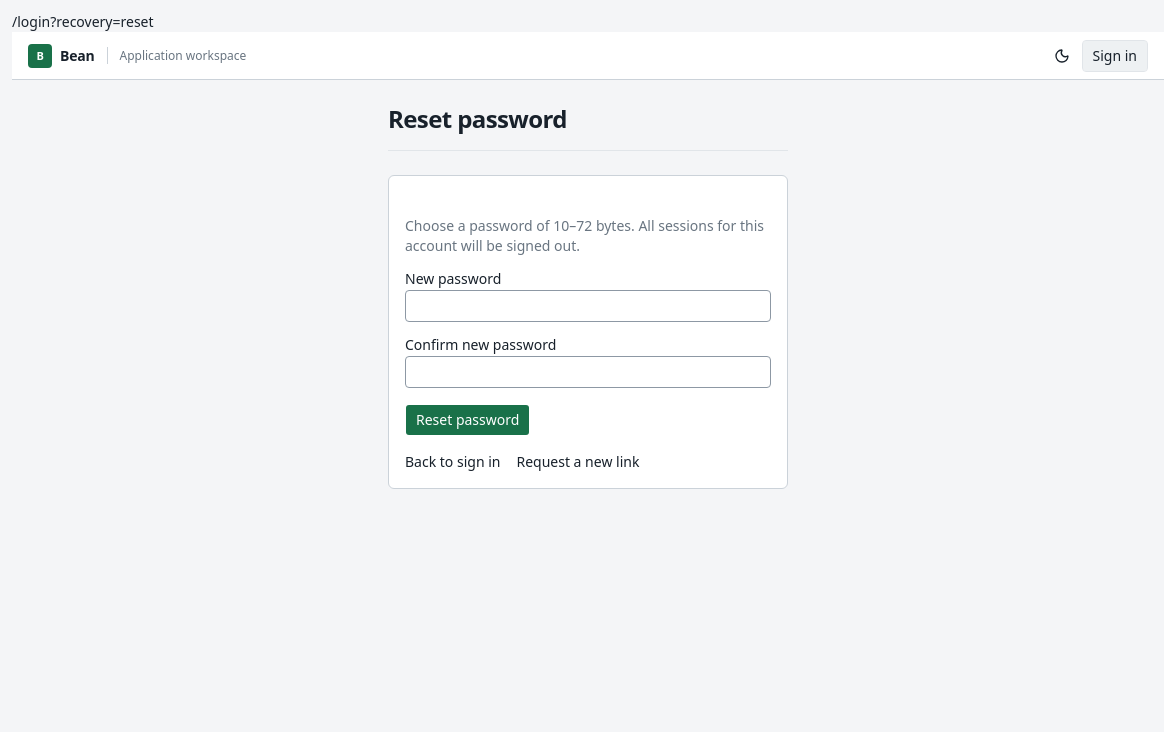
Test: keeps tokens out of the URL/storage and consumes them only on explicit POST
Check: the button "Reset password" is shown, box [405,404,530,436]
Check: the text with test id "location" reads "/login?recovery=reset", box [12,12,154,31]
Type "new-password" into the password field labelled "New password" at (588, 306), box [405,290,771,322]
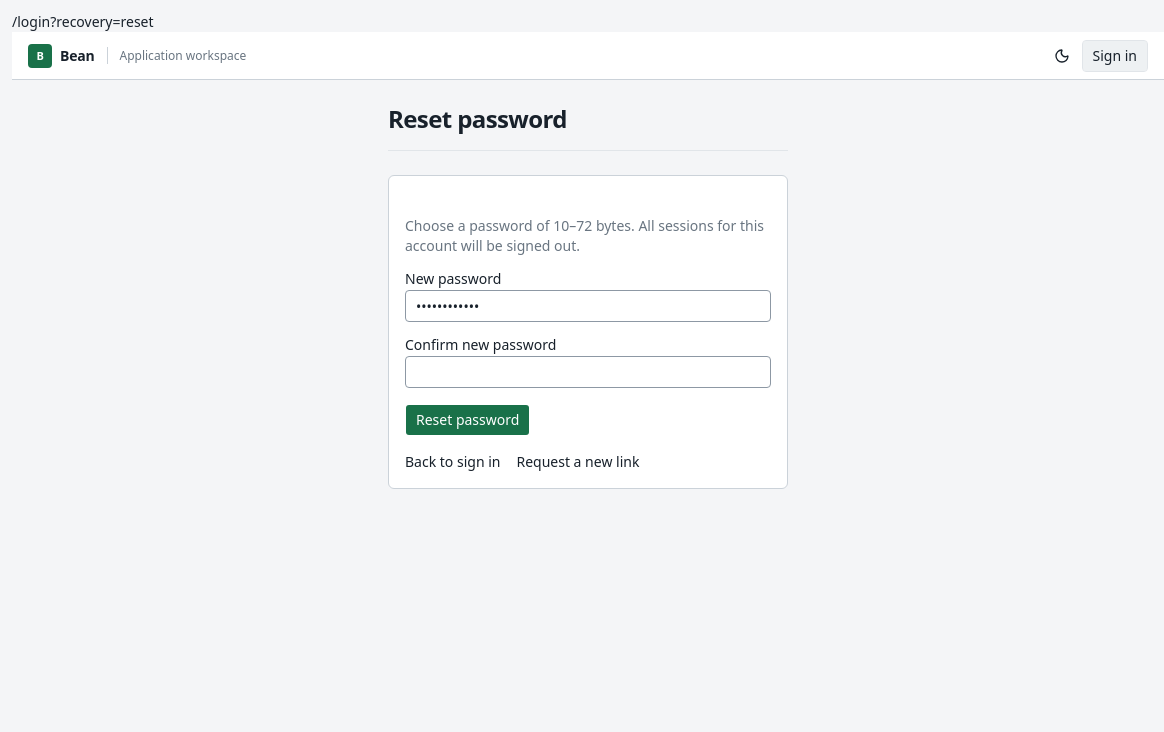
Type "new-password" into the password field labelled "Confirm new password" at (588, 372), box [405,356,771,388]
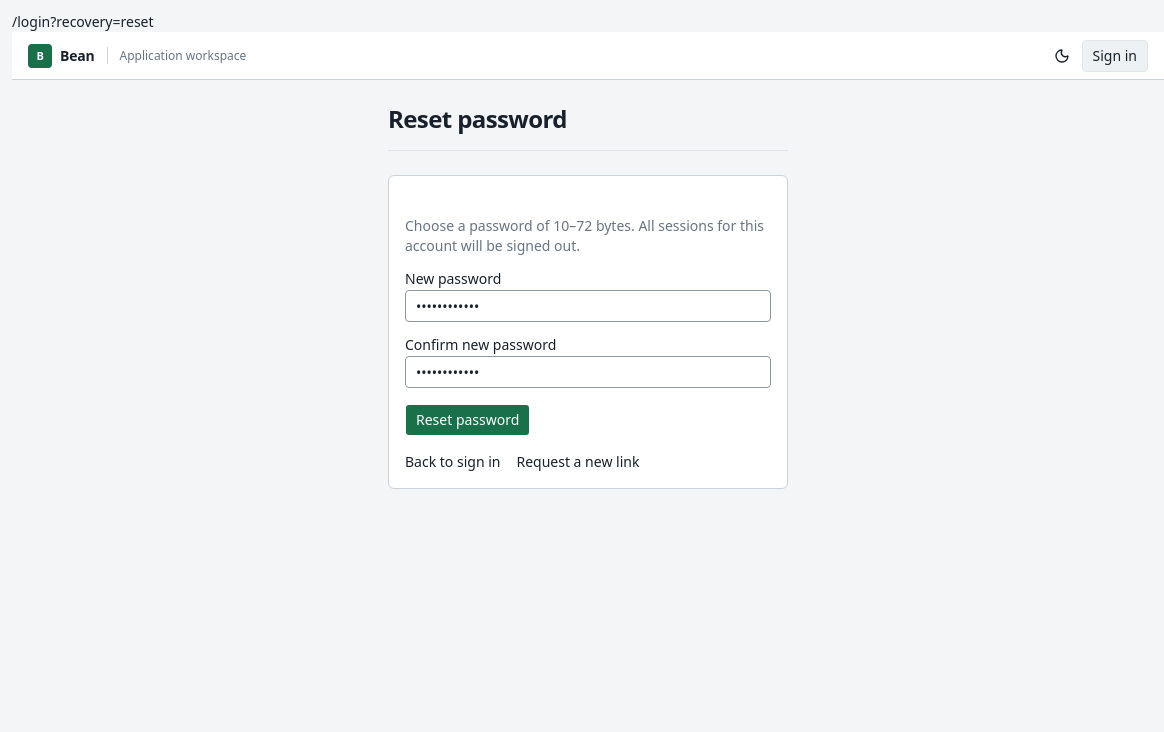
Click the button "Reset password" at (468, 420), box [405,404,530,436]
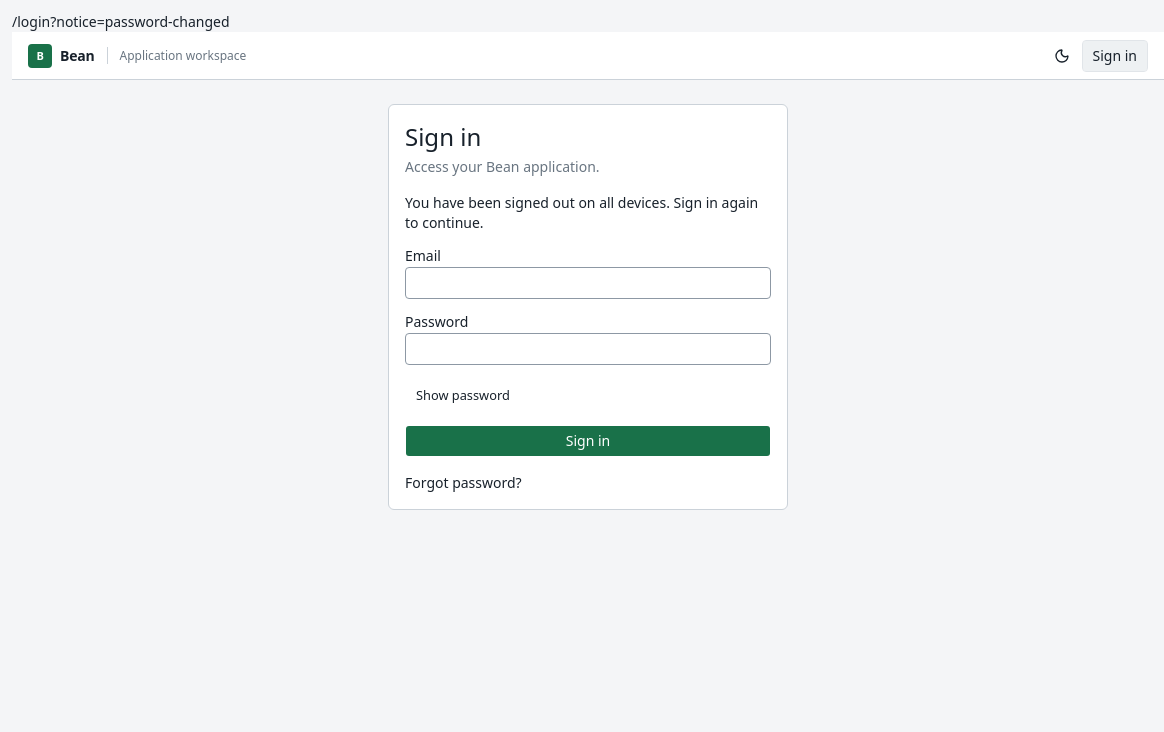
Check: the heading "Sign in" is shown, box [405,120,481,153]
